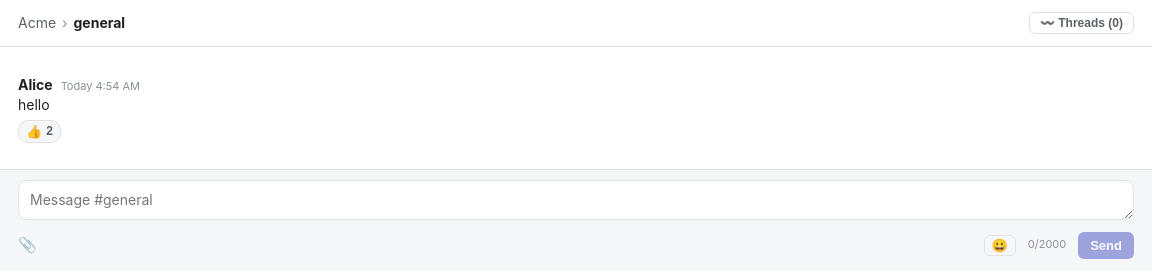
it: reactions › toggles an existing reaction pill
Click the button "👍 2".
click(39, 131)  # box [18,120,61,143]
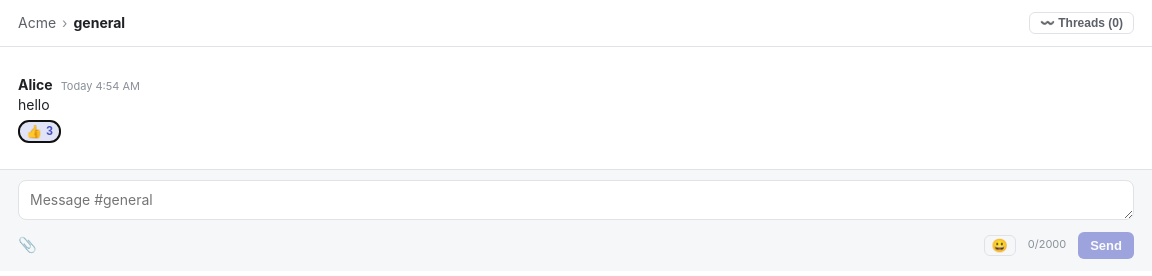
Result: the text "3" is shown at [46,122,53,140]
